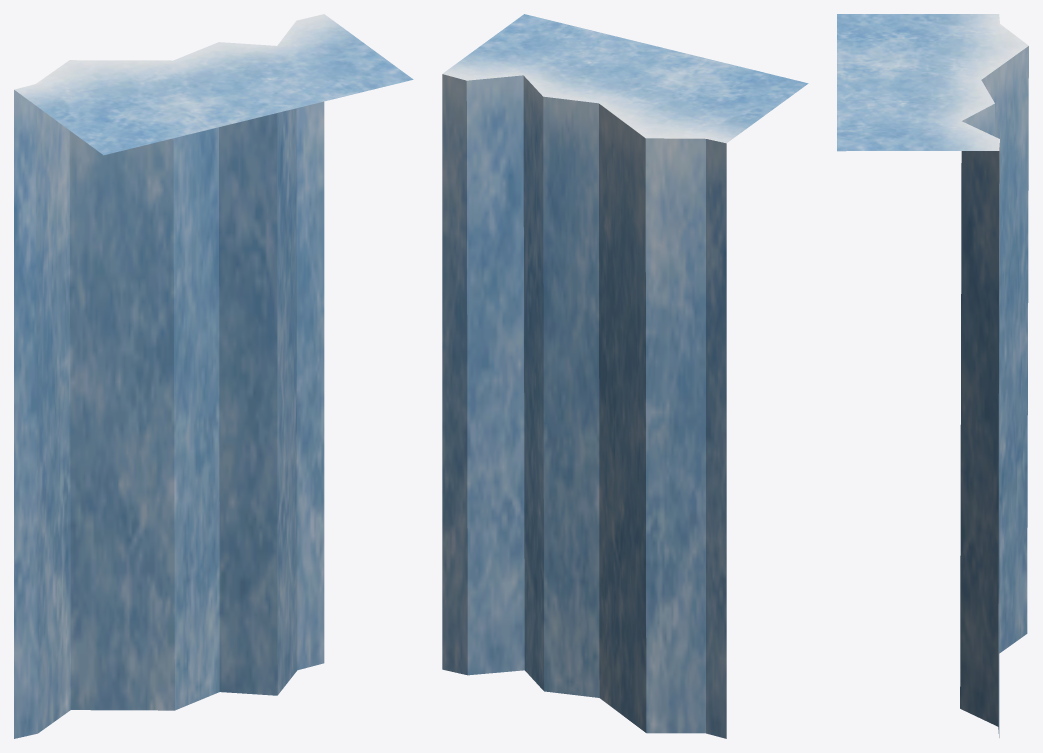
The model's file is Ice_StraightA.fbx.
3 renders of one model, left to right at view 1: azimuth 30°, elevation 25°; view 2: azimuth 150°, elevation 25°; view 3: azimuth 270°, elevation 25°, orthographic. The views are drawn at different scales.
Visible parts, largest first — view 1: Ice_StraightA; view 2: Ice_StraightA; view 3: Ice_StraightA.
Boxes of the visible parts, x1,y1,x2,y2 form: Ice_StraightA: (14,14,413,738); Ice_StraightA: (442,14,808,738); Ice_StraightA: (837,14,1028,737).
Bounding box in the file's own units: 1.2 × 2.4 × 0.7099.
